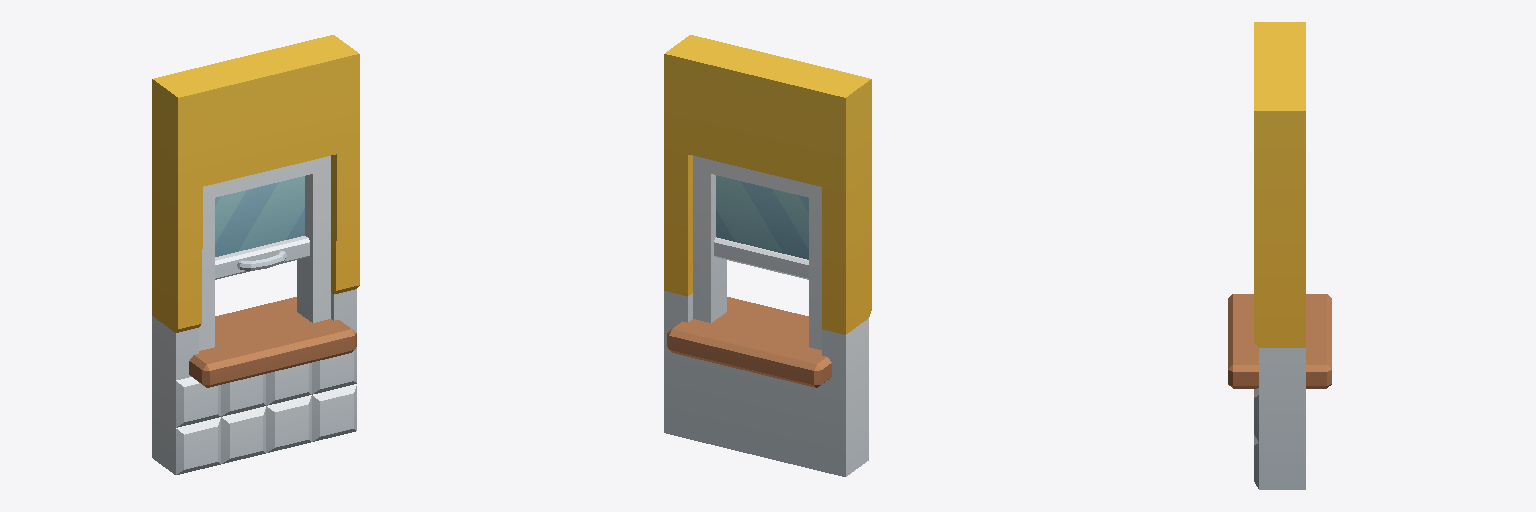
3 renders of one model, left to right at view 1: azimuth 30°, elevation 25°; view 2: azimuth 150°, elevation 25°; view 3: azimuth 270°, elevation 25°, orthographic.
Visible parts, largest first — view 1: wall_tiled_window; view 2: wall_tiled_window; view 3: wall_tiled_window.
Boxes of the visible parts, x1,y1,x2,y2 form: wall_tiled_window: [152, 35, 359, 474]; wall_tiled_window: [664, 35, 871, 476]; wall_tiled_window: [1228, 22, 1331, 489].
Bounding box in the file's own units: 2 × 4 × 1.
Materials: 2 (1 with a texture image).